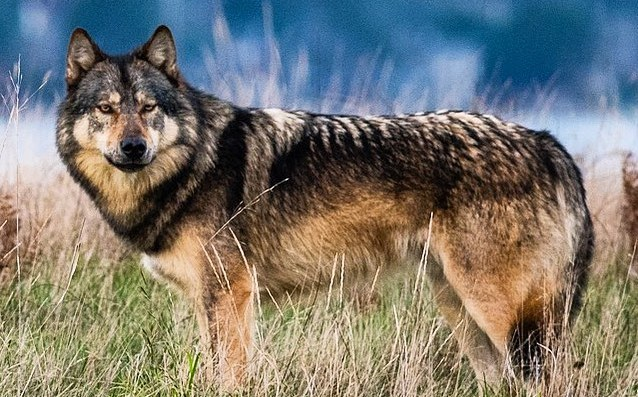Lobo: (35, 21, 577, 363)
